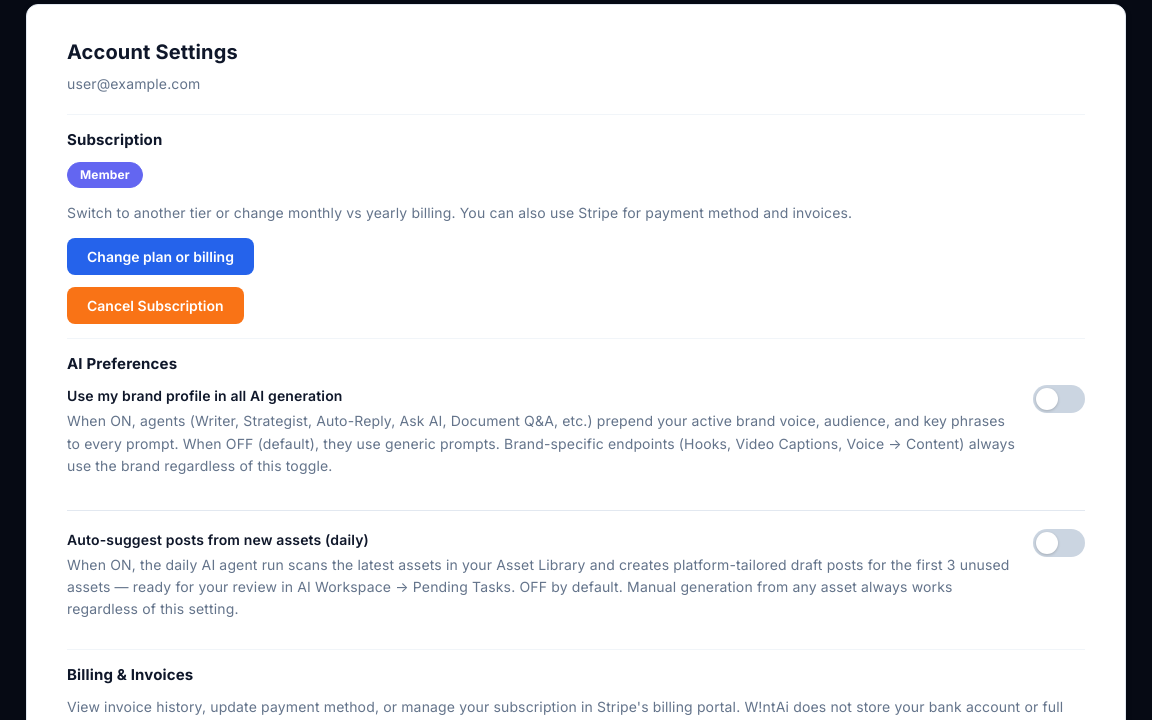
Test: AccountSettings › shows success banner after cancellation
Click the button "Cancel Subscription" at {"x": 155, "y": 305}, box [67,287,244,324]
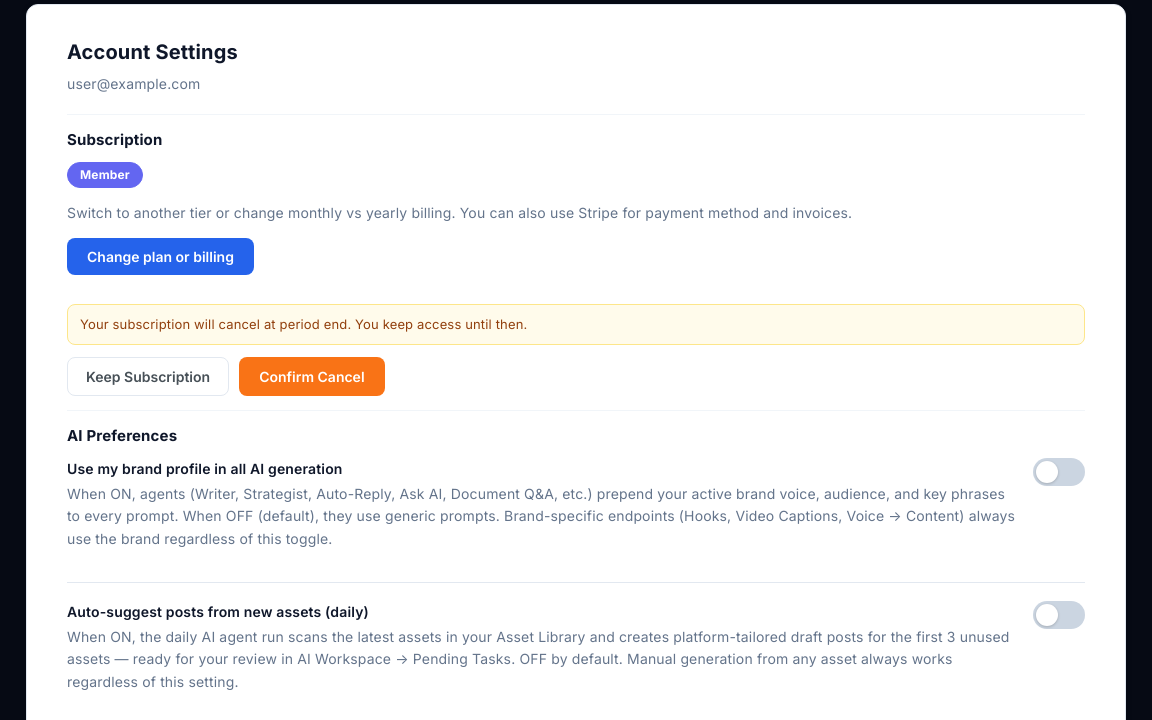
Click the button "Confirm Cancel" at {"x": 312, "y": 377}, box [239,357,384,396]
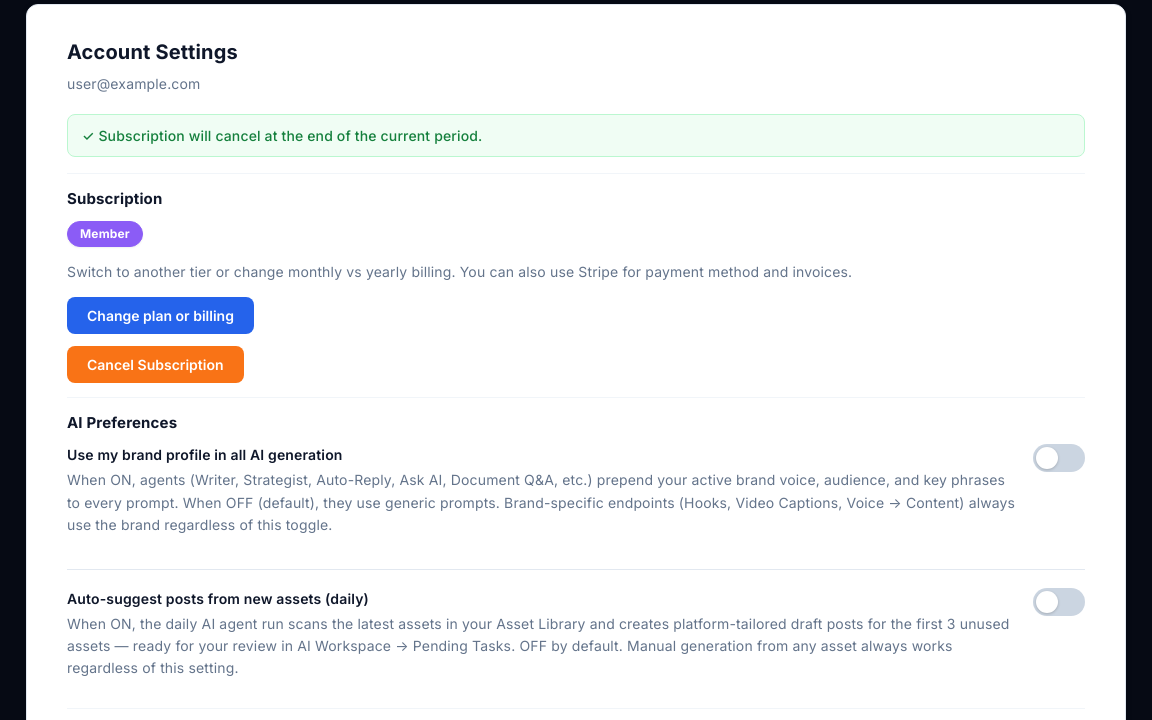
expect the text "✓ Subscription will cancel at the end of the current period." is shown: met, box [67,114,1085,157]
